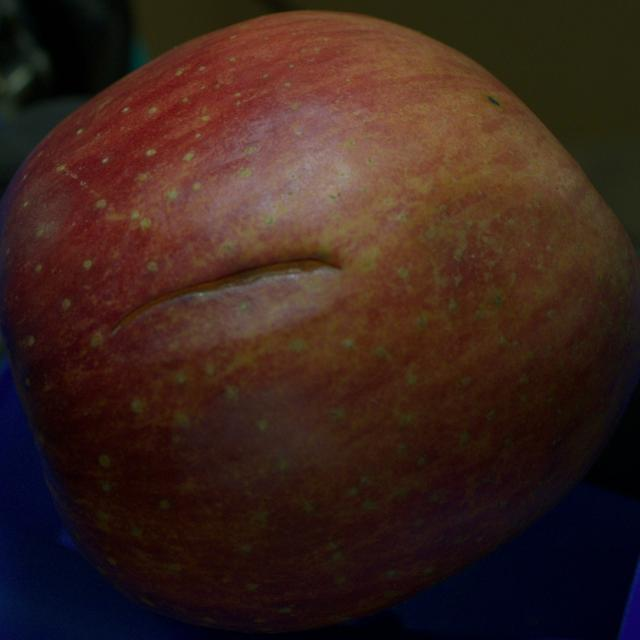apple: (0, 12, 639, 631)
bruise: (122, 271, 344, 361)
pest: (489, 96, 499, 105)
scratch: (112, 258, 339, 333)
